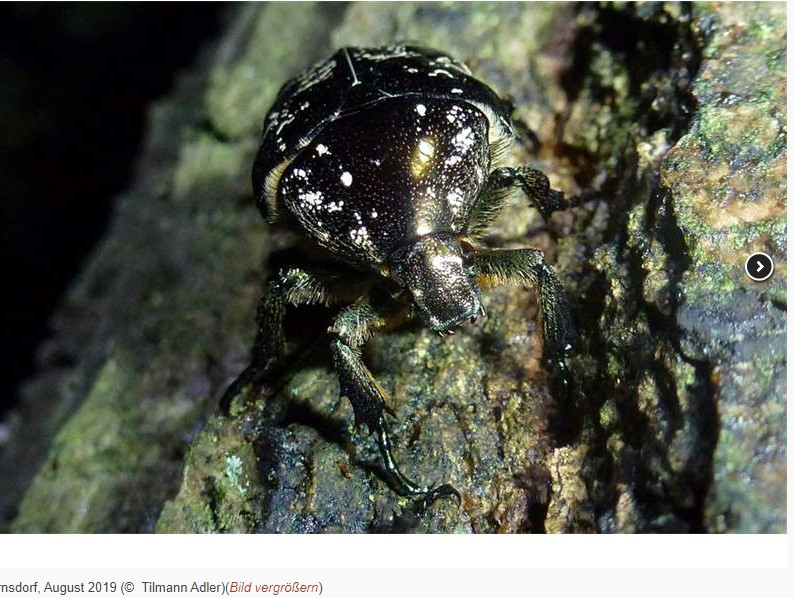Protaetia_lugubris: (243, 31, 573, 513)
